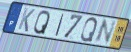7: (63, 13, 84, 40)
I: (54, 13, 65, 38)
K: (16, 7, 36, 33)
N: (92, 18, 118, 45)
Q: (79, 17, 98, 43), (33, 10, 51, 36)
